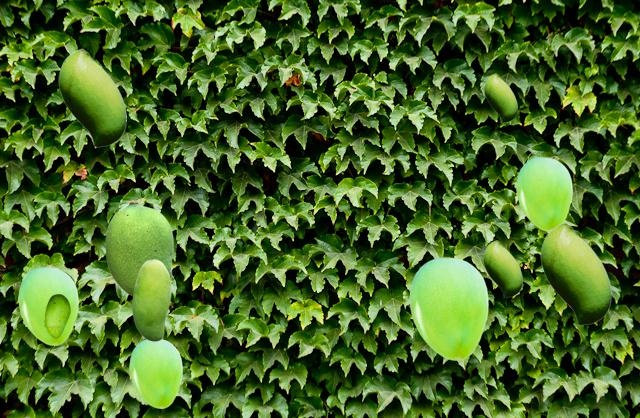green_mango: (409, 257, 487, 359), (540, 222, 610, 324), (58, 48, 125, 146), (105, 200, 172, 296), (18, 267, 77, 344), (516, 157, 571, 230), (129, 339, 181, 407), (132, 259, 170, 340), (483, 240, 521, 296), (484, 73, 516, 121), (44, 294, 69, 337)
